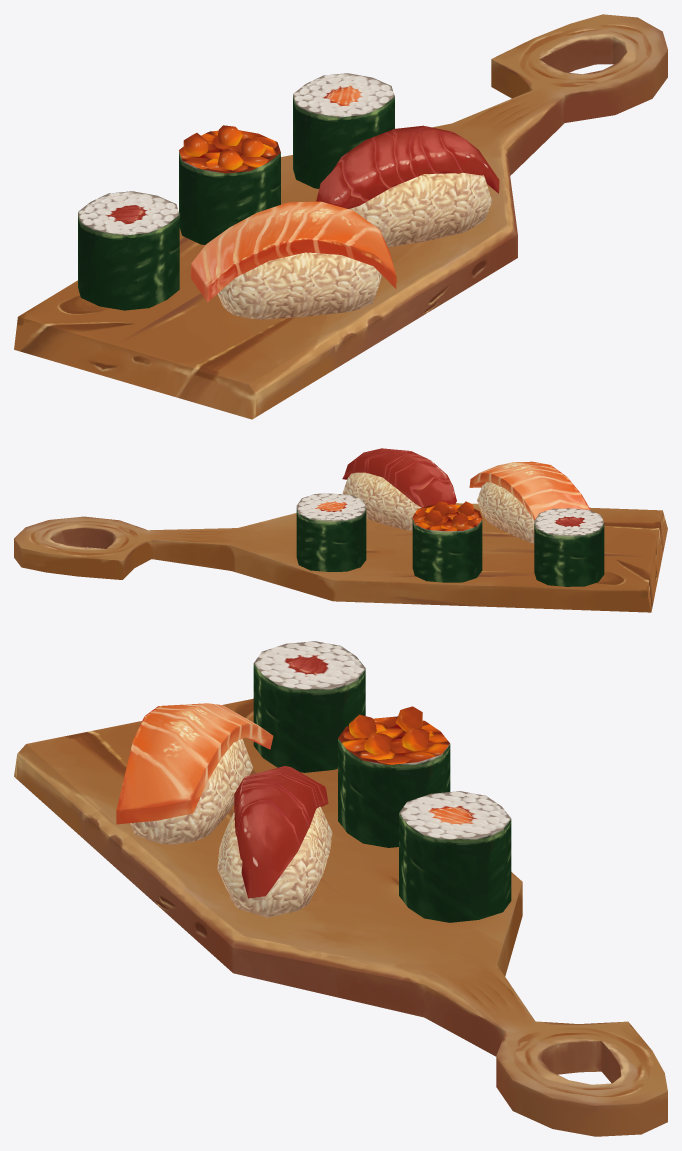
The model's file is sushis.glb.
3 views of the same model, one above another, from view 1: azimuth 30°, elevation 25°; view 2: azimuth 150°, elevation 25°; view 3: azimuth 270°, elevation 25° (orthographic). The views are drawn at different scales.
Parts seen in each view (by area): view 1: sushisSetwithSushis_0; view 2: sushisSetwithSushis_0; view 3: sushisSetwithSushis_0.
Boxes of the visible parts, bbox=[...] form: sushisSetwithSushis_0: bbox=[14, 14, 667, 419]; sushisSetwithSushis_0: bbox=[14, 448, 667, 612]; sushisSetwithSushis_0: bbox=[14, 641, 667, 1136].
Size of the model in its own units: 1.23 by 0.2034 by 0.8062.
2 materials, 2 textured.
